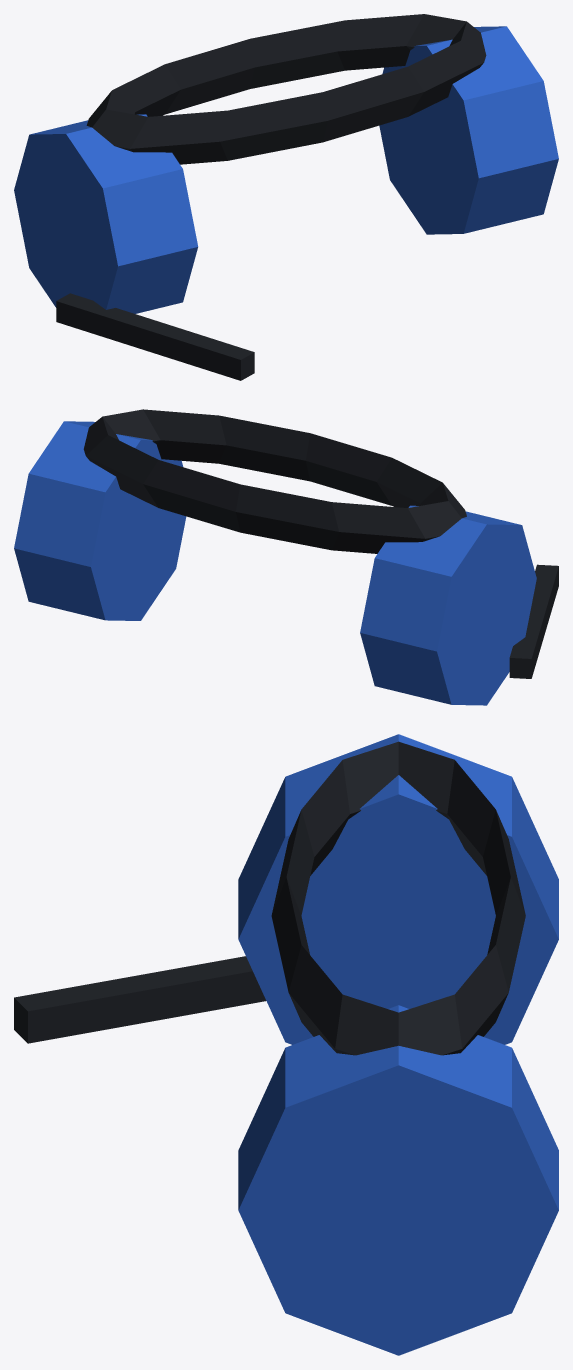
File: headset.glb
The picture shows the model from 3 angles, top to bottom: view 1: azimuth 30°, elevation 25°; view 2: azimuth 150°, elevation 25°; view 3: azimuth 270°, elevation 25°; orthographic projection. The views are drawn at different scales.
Visible parts, largest first — view 1: headset; view 2: headset; view 3: headset.
Part boxes in pixels (x1,y1,x2,y2): headset: (14, 14, 558, 380); headset: (14, 409, 558, 705); headset: (14, 734, 558, 1355).
Bounding box in the file's own units: 0.2341 × 0.097 × 0.153.
